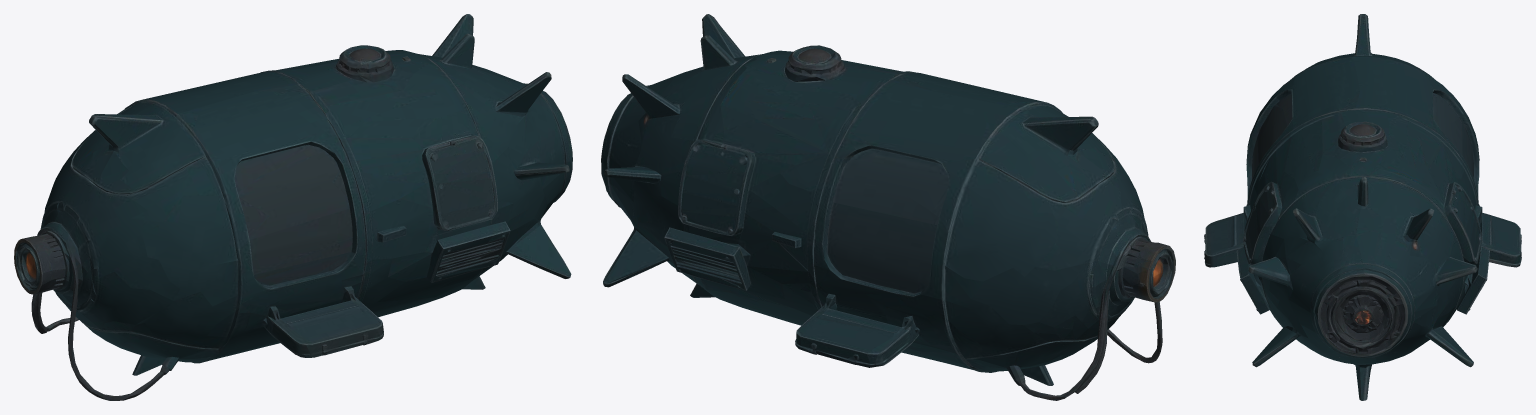
Rendered from capsule_crash.glb.
3 renders of one model, left to right at view 1: azimuth 30°, elevation 25°; view 2: azimuth 150°, elevation 25°; view 3: azimuth 270°, elevation 25°, orthographic. The views are drawn at different scales.
Bounding box in the file's own units: 1.89 × 0.9397 × 1.18.
1 material, 1 textured.
